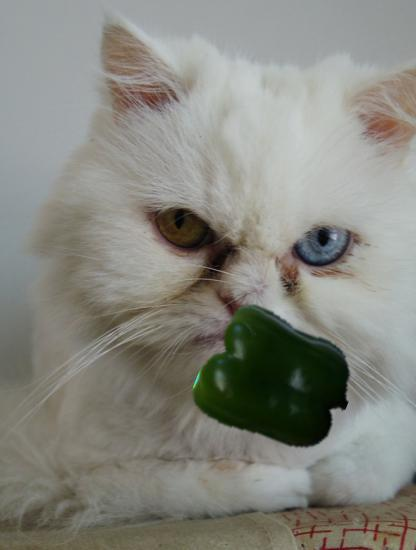Pepper: (202, 304, 352, 454)
